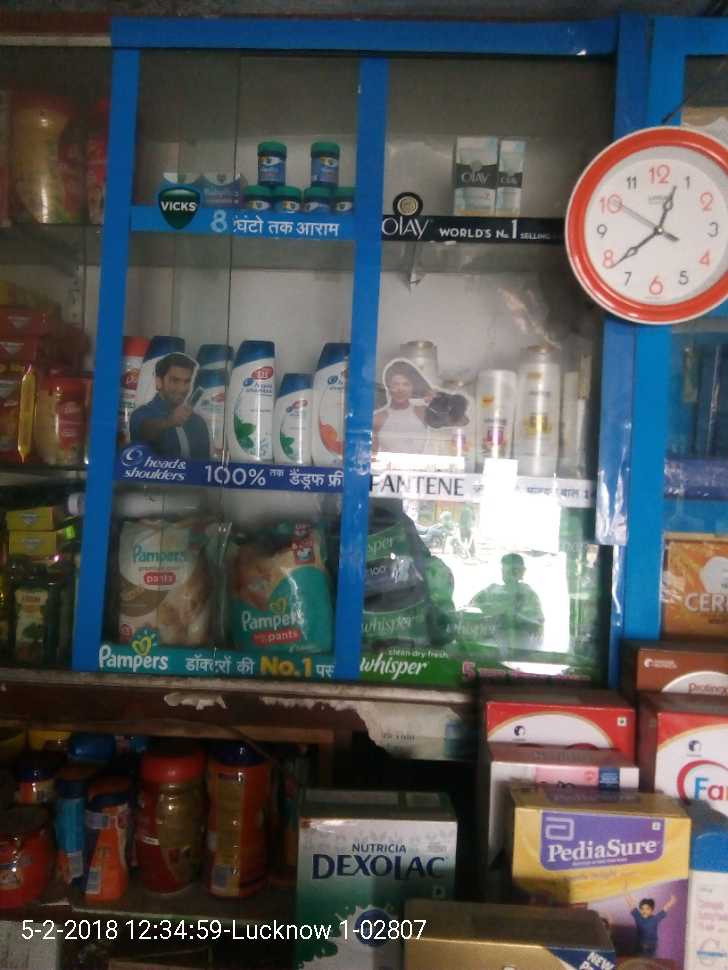vicks: (200, 138, 361, 218)
